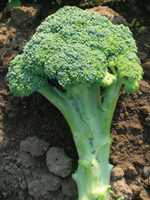broccoli: (8, 5, 141, 199)
